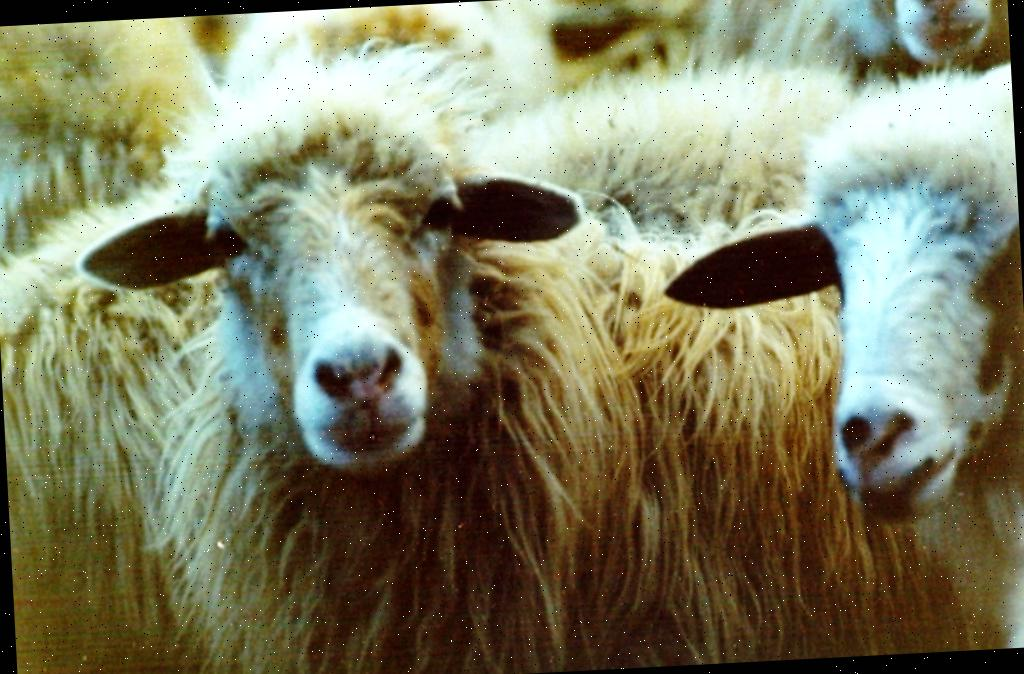Sheep: (64, 55, 638, 674), (646, 56, 1024, 664), (694, 0, 1012, 107)
